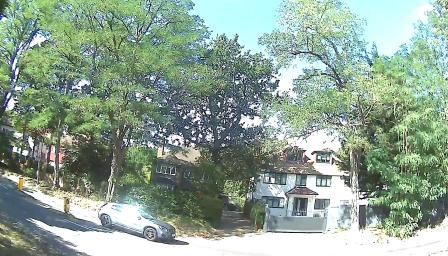Cars: (100, 200, 177, 242)
